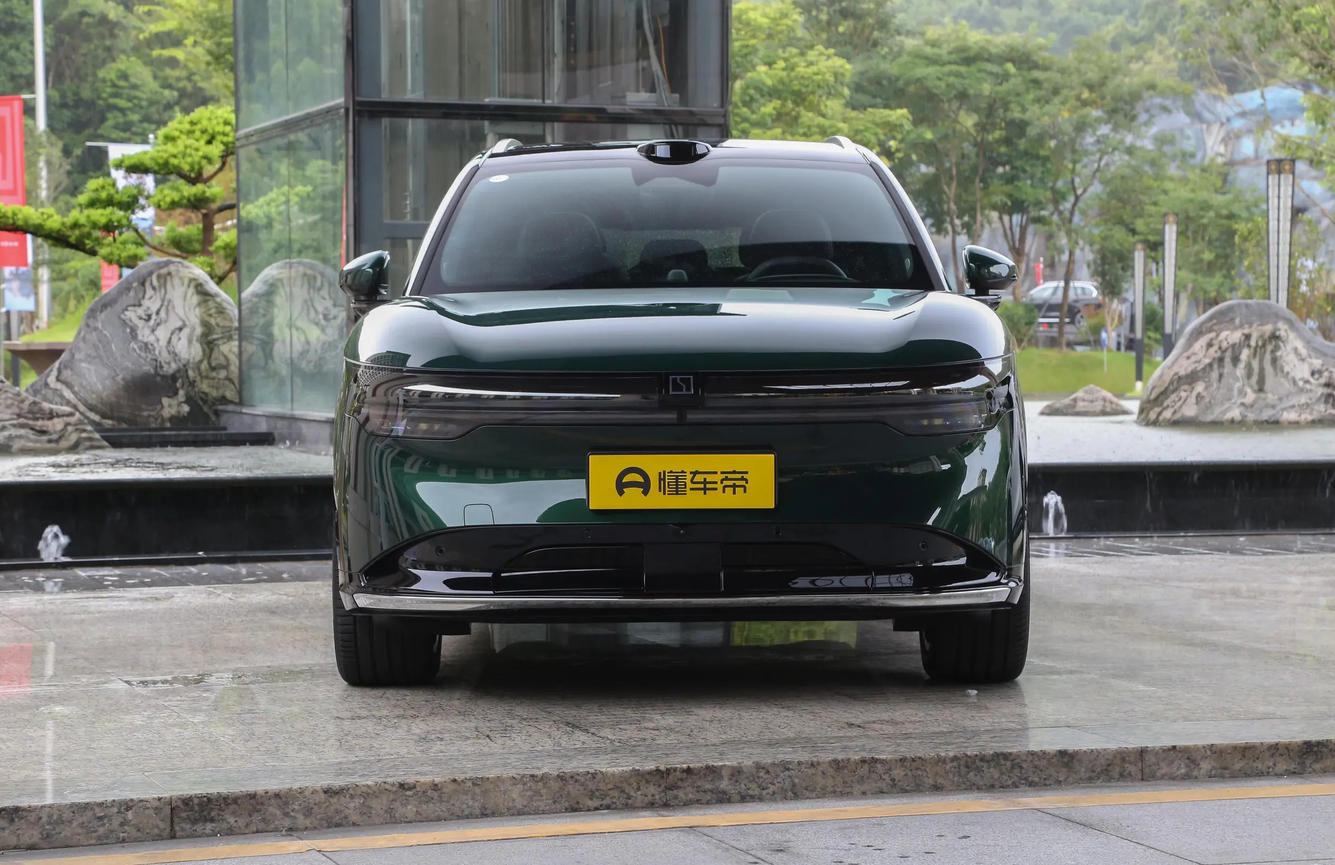ZEEKR: (669, 376, 693, 393)
